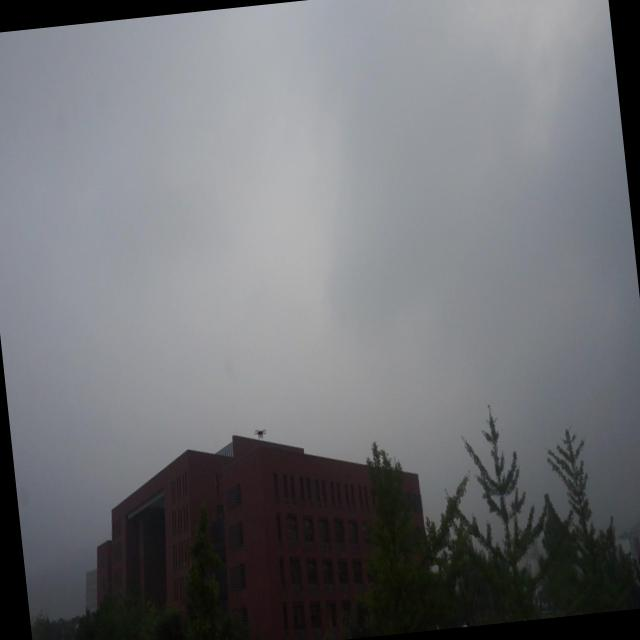drone: (254, 424, 268, 440)
